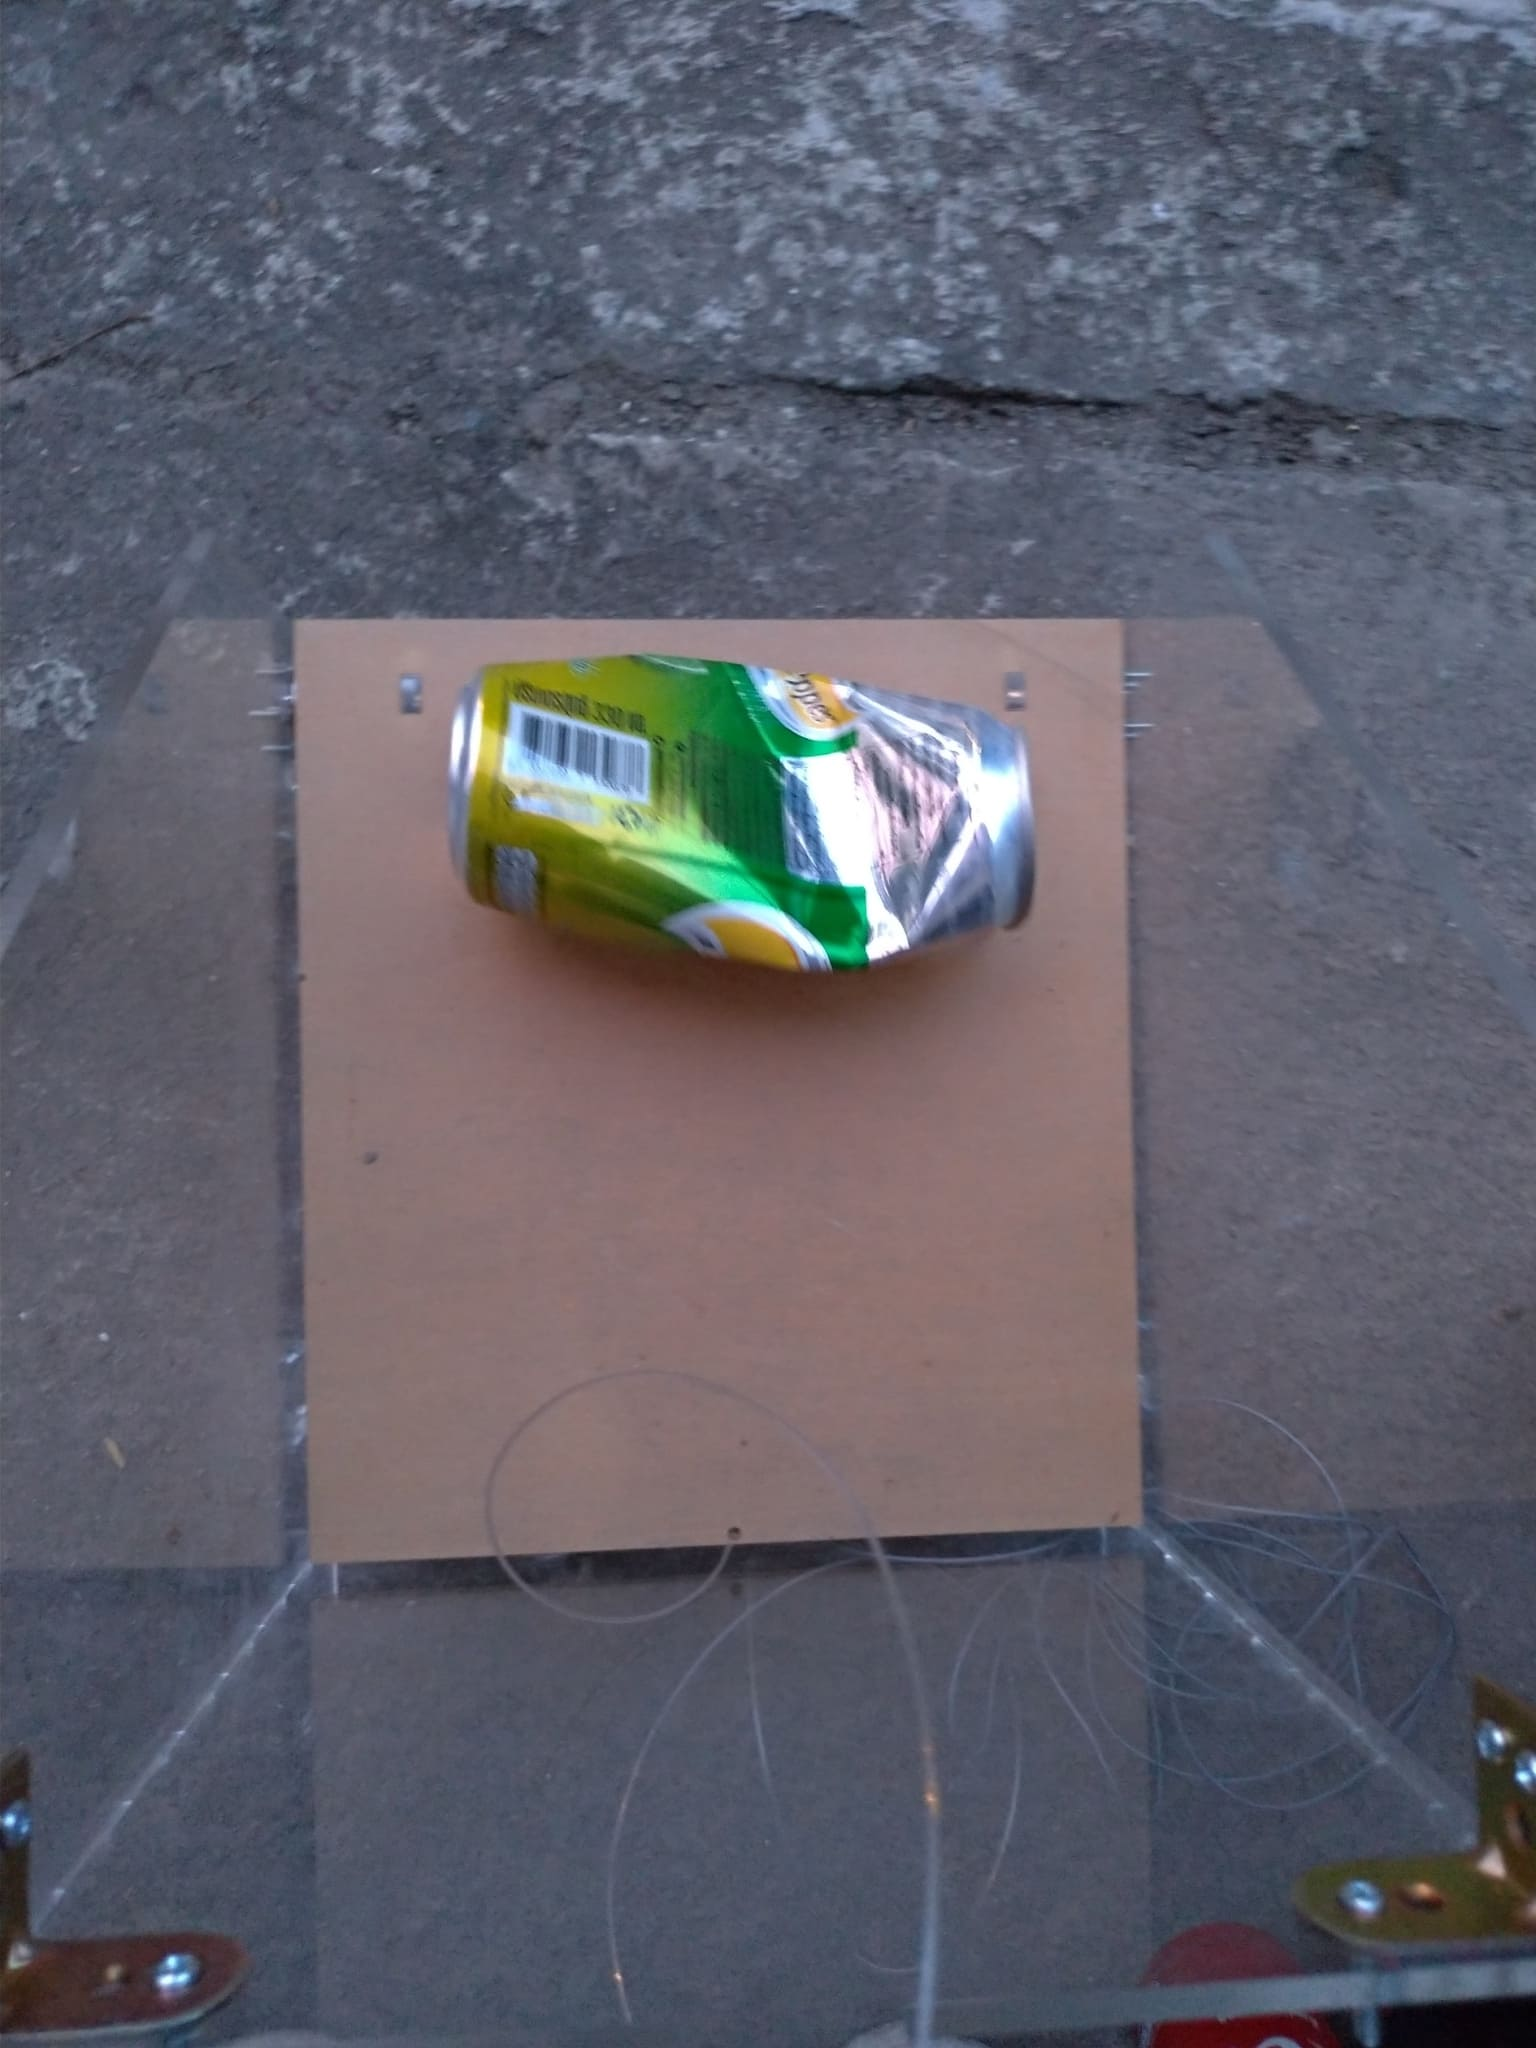AlCan: (440, 648, 1033, 997)
